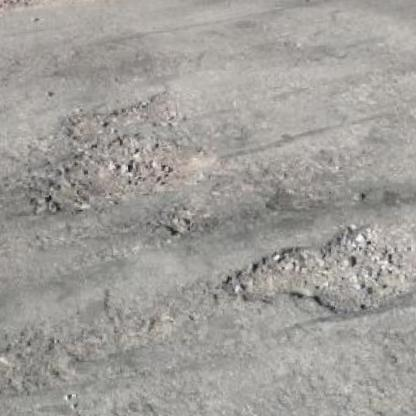pothole: (216, 216, 416, 316), (10, 130, 214, 211), (56, 87, 195, 139), (156, 204, 202, 241)
